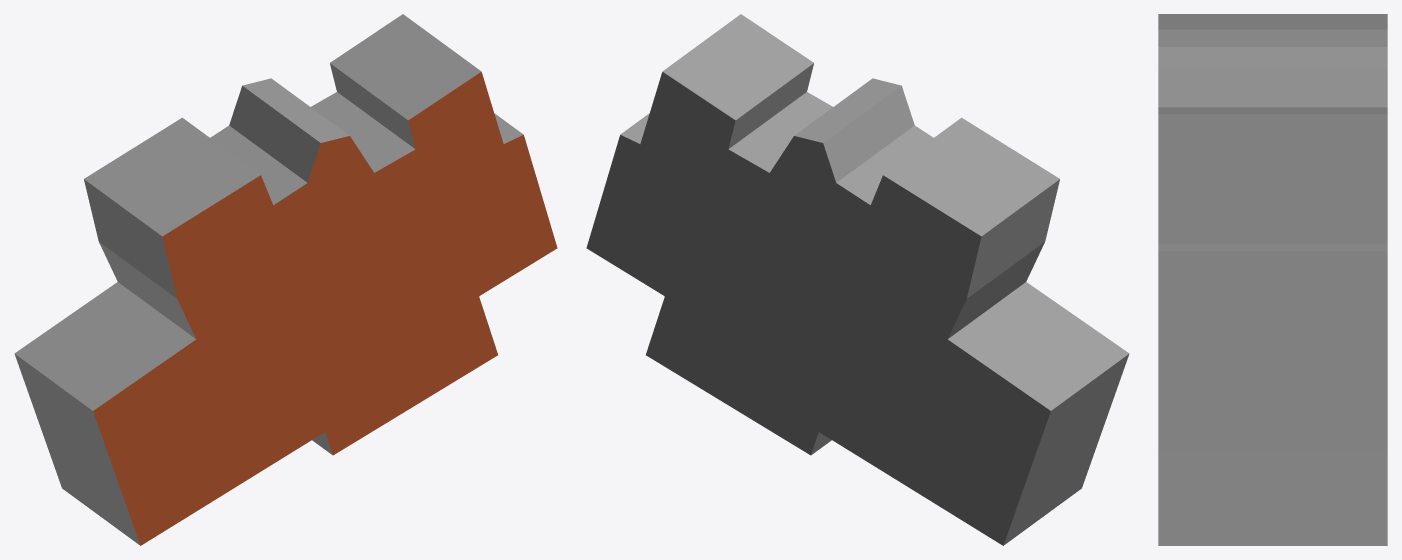
The model's file is construction_0552_assumed_A_Casa_h6m.obj.
3 renders of one model, left to right at view 1: azimuth 30°, elevation 25°; view 2: azimuth 150°, elevation 25°; view 3: azimuth 270°, elevation 25°, orthographic. The views are drawn at different scales.
Visible parts, largest first — view 1: construction_0552_assumed_A_Casa; view 2: construction_0552_assumed_A_Casa; view 3: construction_0552_assumed_A_Casa.
Part boxes in pixels (left/top/right/bottom): construction_0552_assumed_A_Casa: left=14, top=14, right=557, bottom=545; construction_0552_assumed_A_Casa: left=586, top=14, right=1129, bottom=545; construction_0552_assumed_A_Casa: left=1158, top=14, right=1387, bottom=545.
Bounding box in the file's own units: 20.47 × 16.48 × 6.
